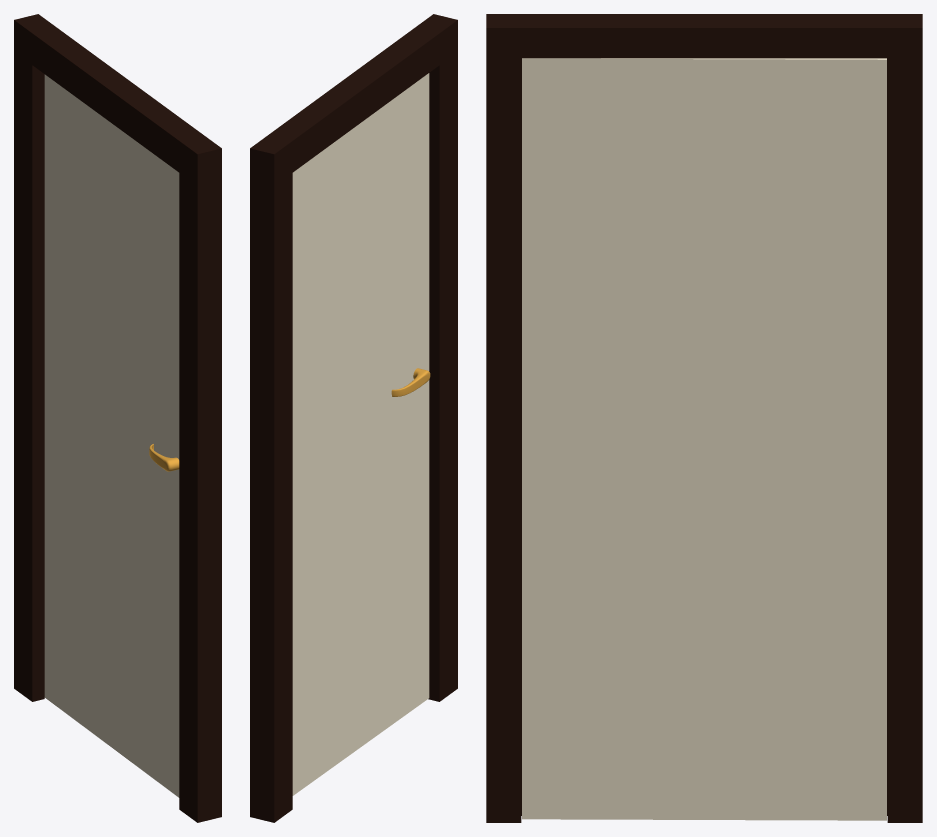
The model's file is door_idle.glb.
3 views of the same model, side by side, from view 1: azimuth 30°, elevation 25°; view 2: azimuth 150°, elevation 25°; view 3: azimuth 270°, elevation 25° (orthographic). The views are drawn at different scales.
Visible parts, largest first — view 1: Door.004, DoorFrame.022, Handle_Front.004; view 2: Door.004, DoorFrame.022, Handle_Front.004; view 3: Door.004, DoorFrame.022.
Boxes of the visible parts, x1=… form: Door.004: x1=44, y1=74, x2=179, y2=797; DoorFrame.022: x1=14, y1=14, x2=221, y2=822; Handle_Front.004: x1=149, y1=444, x2=179, y2=471; Door.004: x1=292, y1=73, x2=429, y2=795; DoorFrame.022: x1=250, y1=14, x2=457, y2=822; Handle_Front.004: x1=391, y1=368, x2=430, y2=396; Door.004: x1=522, y1=58, x2=886, y2=820; DoorFrame.022: x1=486, y1=14, x2=922, y2=822.
Size of the model in its own units: 0.1242 by 3.11 by 1.55.
